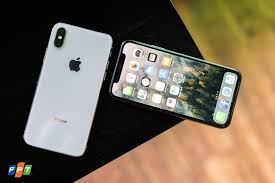iphone: (18, 22, 123, 158), (109, 37, 246, 131)
iphone10: (20, 22, 125, 158), (107, 37, 244, 131)
